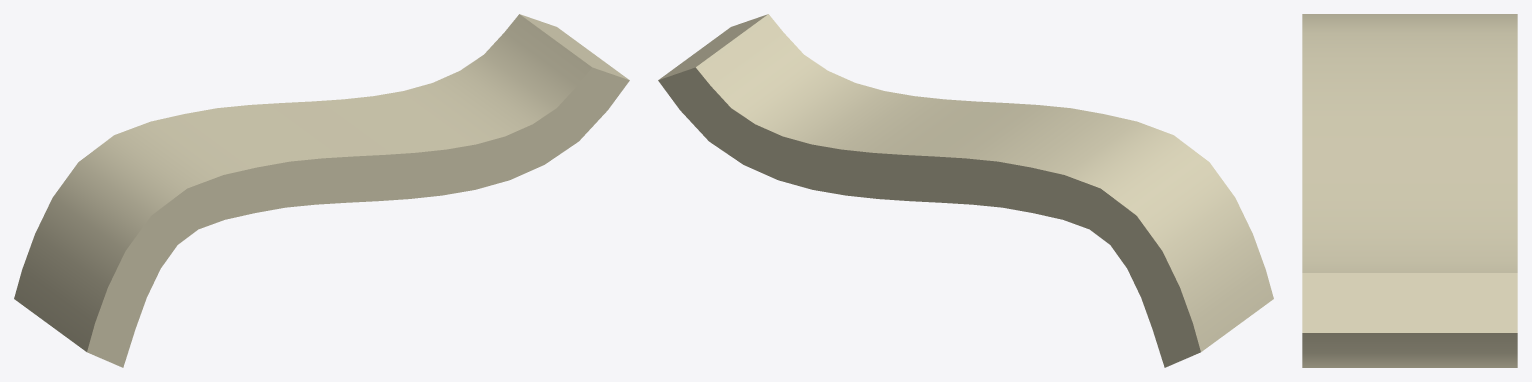
3 views of the same model, side by side, from view 1: azimuth 30°, elevation 25°; view 2: azimuth 150°, elevation 25°; view 3: azimuth 270°, elevation 25° (orthographic). The views are drawn at different scales.
Parts seen in each view (by area): view 1: Cube.002; view 2: Cube.002; view 3: Cube.002.
Part boxes in pixels (x1,y1,x2,y2): Cube.002: (14, 14, 629, 367); Cube.002: (658, 14, 1273, 367); Cube.002: (1302, 14, 1517, 367).
Bounding box in the file's own units: 641 × 210 × 149.
